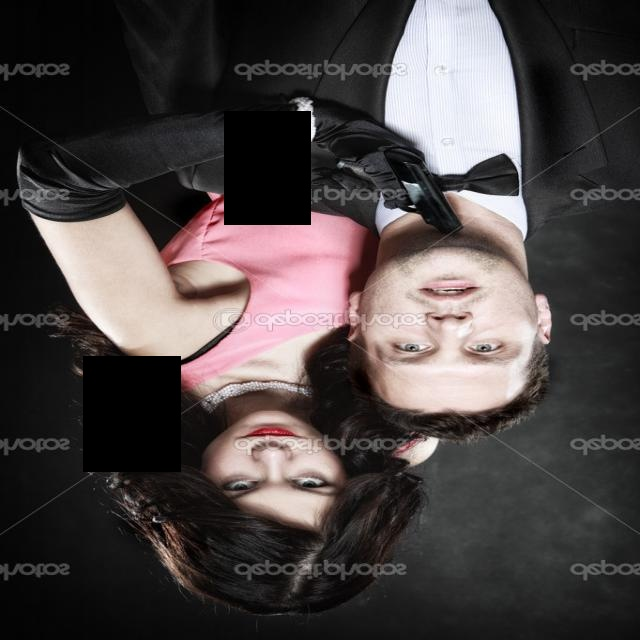gun: (311, 128, 487, 239)
